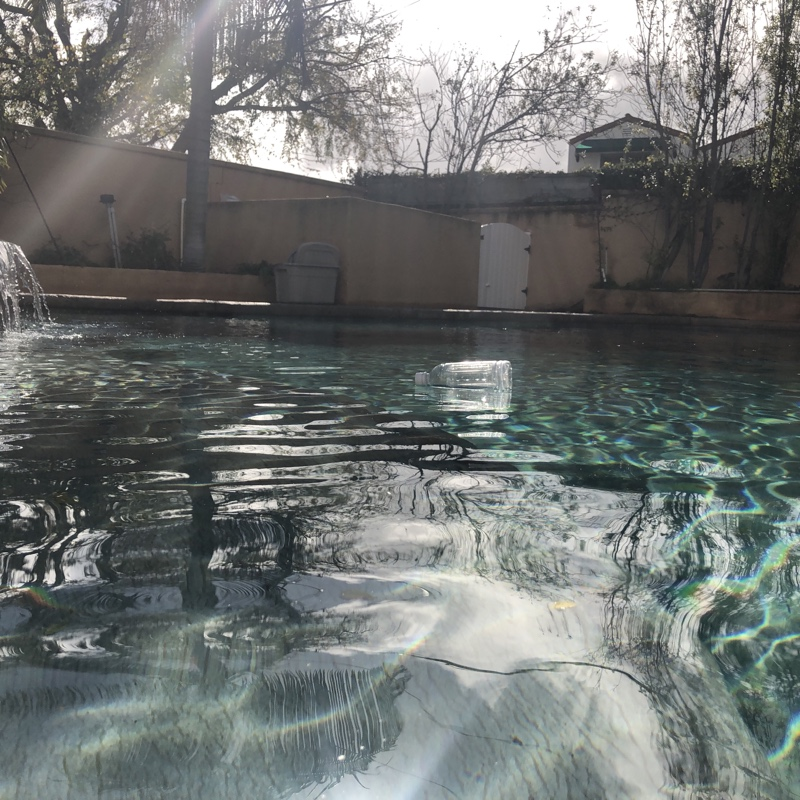Plastic Bottle: (408, 354, 514, 397)
